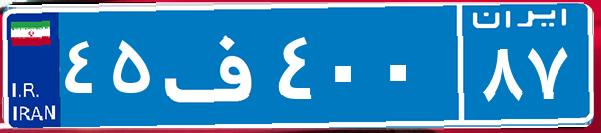0: (385, 28, 445, 110), (330, 28, 385, 110)
4: (273, 28, 330, 110), (57, 26, 110, 107)
5: (110, 28, 158, 105)
7: (525, 38, 570, 115)
8: (475, 38, 525, 113)
ف: (158, 15, 273, 115)
